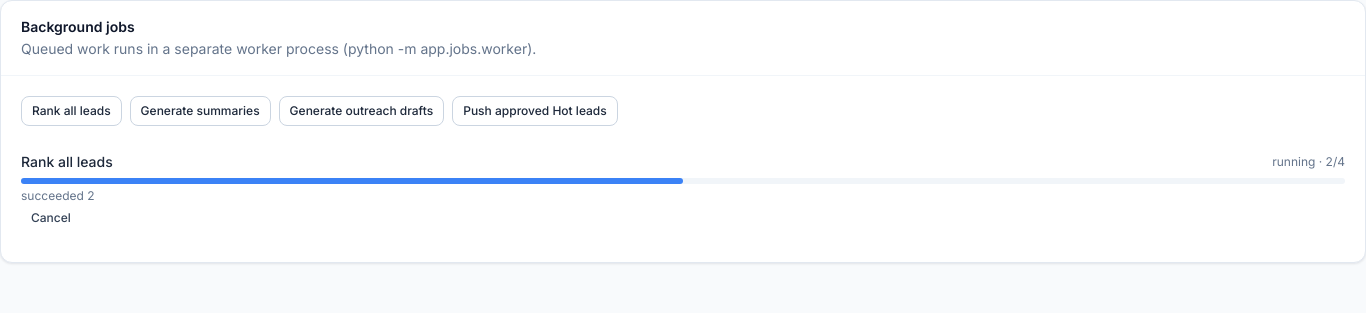
JobsPanel › cancels an active job
This screenshot has width=1366, height=313.
What coordinates should you click on to do the following:
click the button "Cancel"
I would click on:
 (51, 218)
Its box is [21,204,81,232].
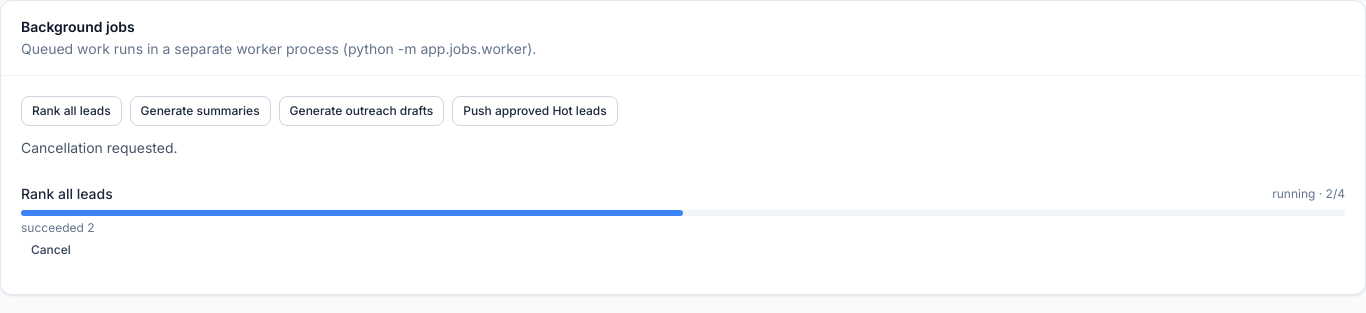
Expected: the message reads "Cancellation requested.", [21,139,178,156]
